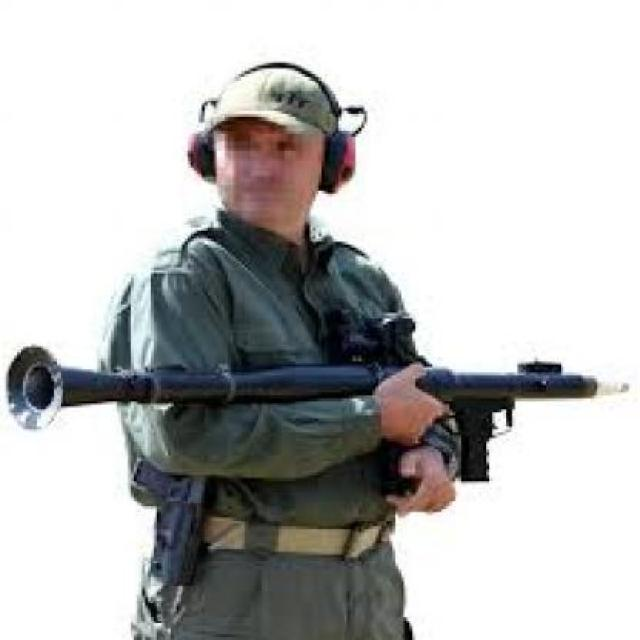weapon: (19, 315, 635, 512)
